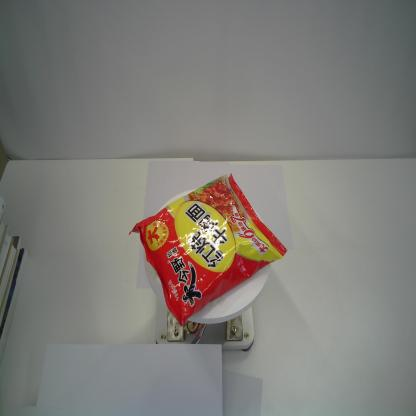Instant Noodles: (128, 173, 287, 328)
